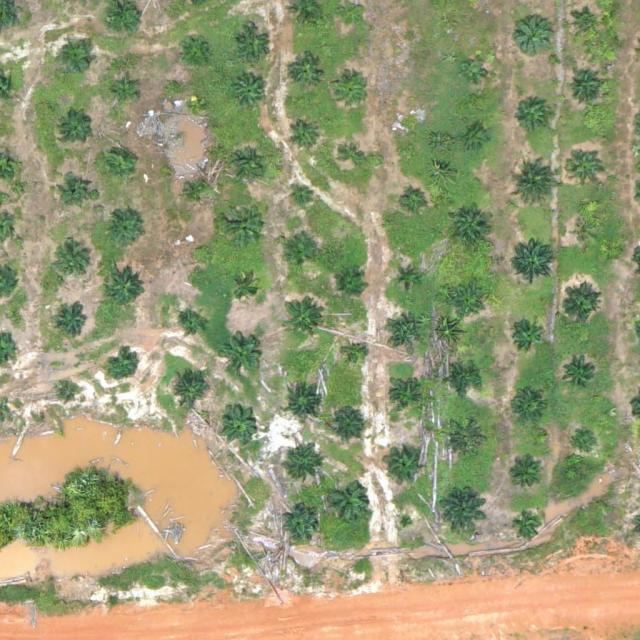Grass: (466, 128, 489, 152)
Small: (323, 478, 370, 526), (509, 162, 556, 209), (511, 234, 558, 281), (222, 198, 269, 245), (439, 487, 486, 534), (220, 335, 260, 375), (282, 298, 321, 338), (450, 208, 489, 248), (514, 94, 553, 134), (234, 26, 274, 65), (560, 286, 600, 325), (566, 67, 605, 107), (563, 353, 603, 392), (218, 403, 257, 443), (385, 447, 425, 486), (280, 507, 320, 546), (170, 369, 209, 409), (385, 310, 424, 349), (106, 266, 145, 305), (513, 15, 552, 54), (54, 243, 93, 282), (229, 146, 268, 185), (232, 76, 271, 115), (104, 210, 143, 249), (567, 148, 606, 187), (281, 446, 320, 485), (286, 385, 325, 424), (327, 402, 366, 441), (447, 421, 486, 460), (451, 288, 482, 320), (511, 320, 542, 352), (513, 391, 544, 423), (571, 427, 602, 459), (448, 365, 479, 396), (57, 308, 88, 339), (108, 350, 139, 381), (61, 173, 92, 204), (63, 45, 94, 76), (61, 113, 92, 144), (180, 34, 211, 65), (293, 56, 324, 87), (336, 76, 367, 107), (282, 240, 313, 271), (103, 148, 134, 179), (510, 460, 541, 491), (388, 379, 419, 410), (514, 511, 545, 542), (336, 270, 367, 301), (230, 275, 261, 306), (177, 311, 208, 342), (182, 175, 213, 206), (570, 11, 601, 42), (290, 121, 321, 152), (112, 79, 136, 103), (345, 345, 369, 369), (291, 184, 315, 208), (339, 4, 363, 28), (400, 118, 424, 142), (342, 144, 366, 168), (576, 221, 599, 245), (395, 267, 418, 291), (404, 189, 428, 212), (463, 58, 486, 81), (60, 383, 76, 398), (187, 97, 203, 112), (192, 244, 207, 259)
